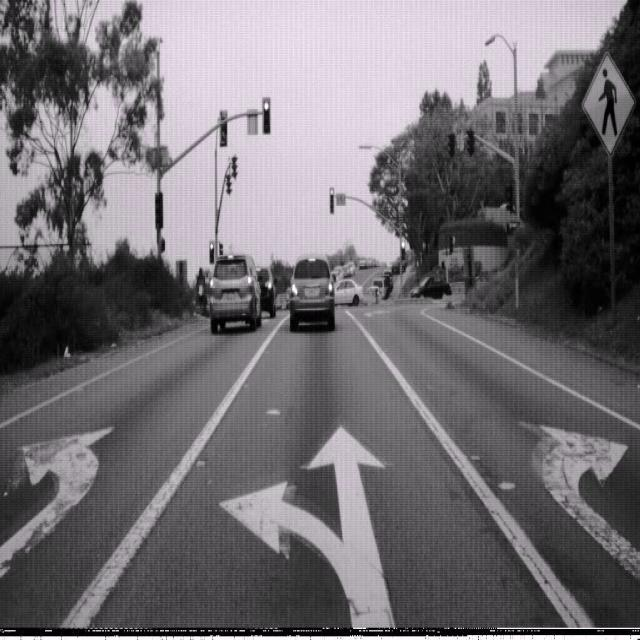pedestrianCrossing: (582, 50, 635, 157)
